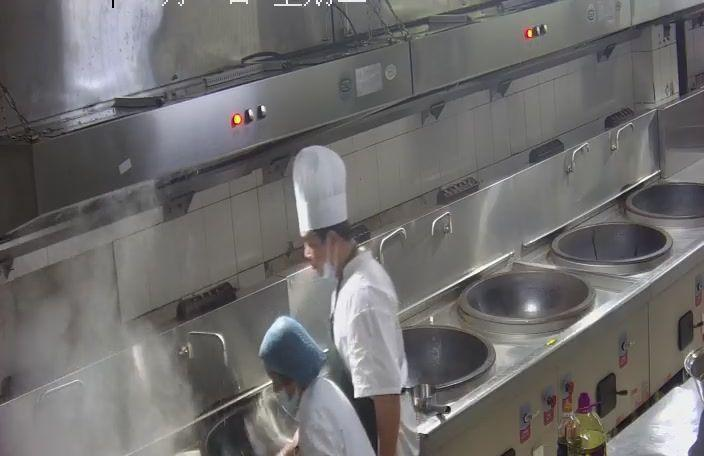mask: (301, 235, 339, 283)
